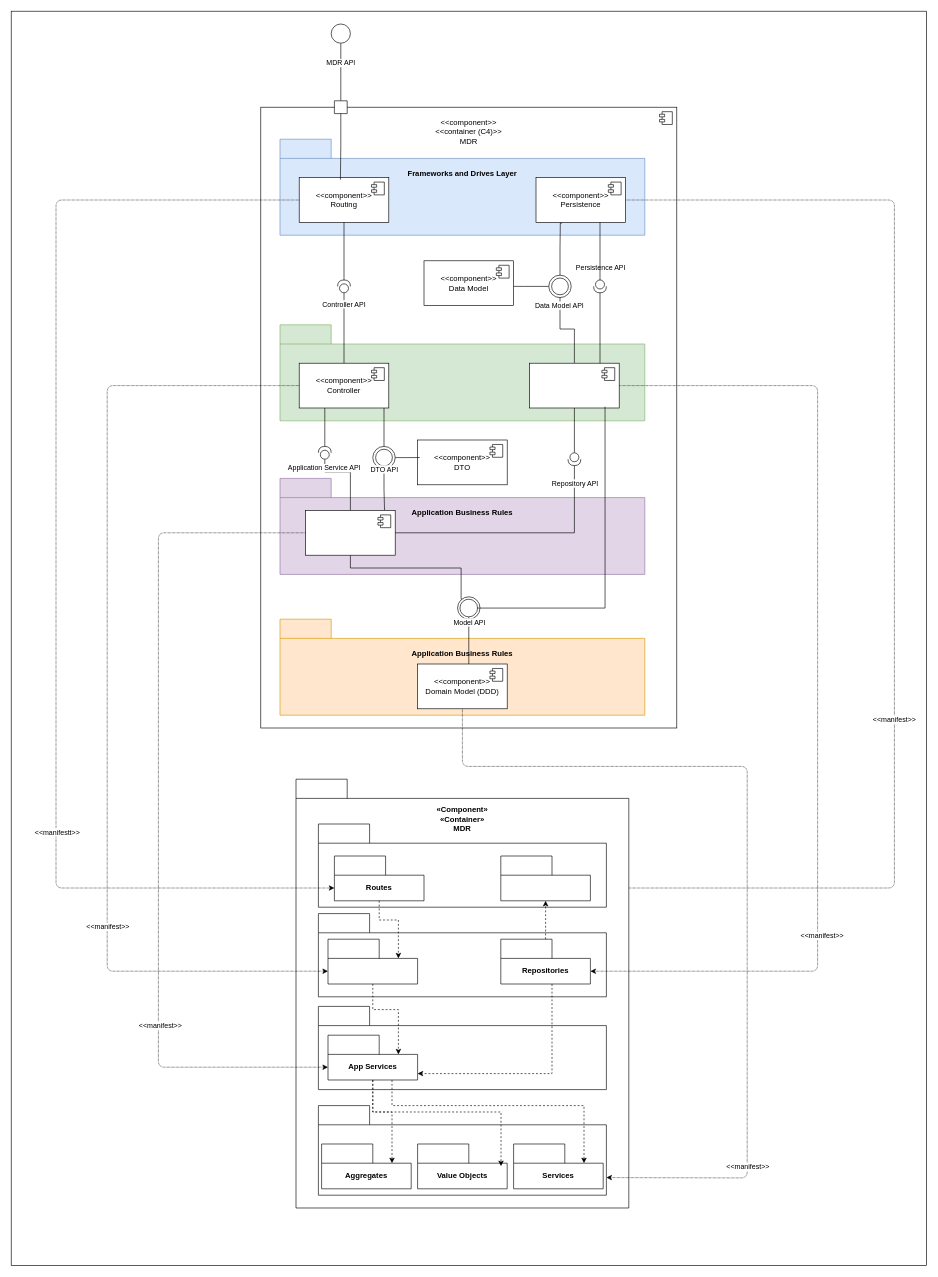
Image size: 938x1277. Some labels were removed from this diagram. Here are the shapes that lost their labels. From the top down, the box of each, then its label:
(279, 324, 645, 421): Interface Adapters Layer
(529, 363, 619, 408): <<component>> Repository
(305, 510, 395, 555): <<component>> Application Service
(318, 823, 606, 907): Infrastructure
(500, 855, 590, 901): Persistence
(327, 939, 418, 984): Controllers
(318, 913, 606, 997): Interface Adapters
(318, 1006, 606, 1090): Application Services/Use Case Services
(318, 1105, 606, 1195): Entities/Core/Domain
